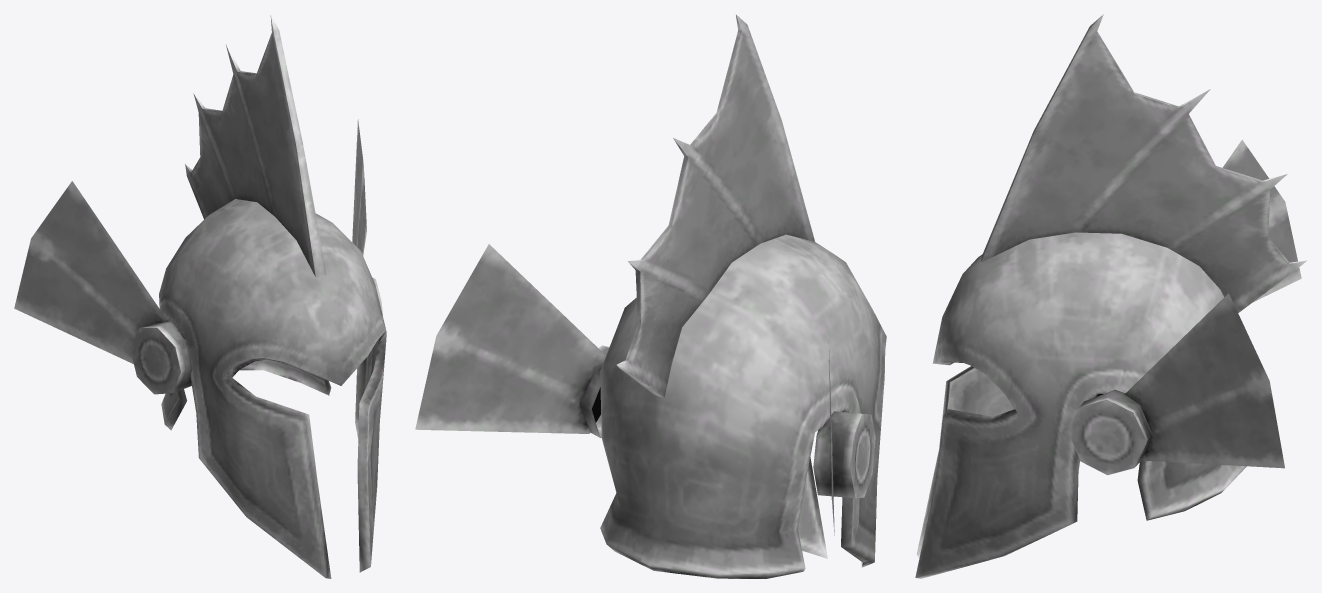
Rendered from helmet-championinfantry.glb.
3 views of the same model, side by side, from view 1: azimuth 30°, elevation 25°; view 2: azimuth 150°, elevation 25°; view 3: azimuth 270°, elevation 25° (orthographic). The views are drawn at different scales.
Bounding box in the file's own units: 0.5042 × 0.6983 × 0.4426.
1 material, 1 textured.
